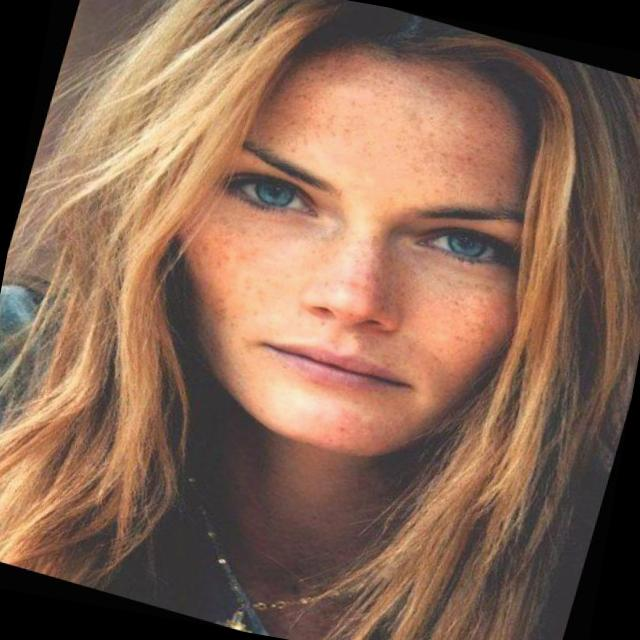freckle: (172, 194, 521, 382), (247, 12, 544, 222)
